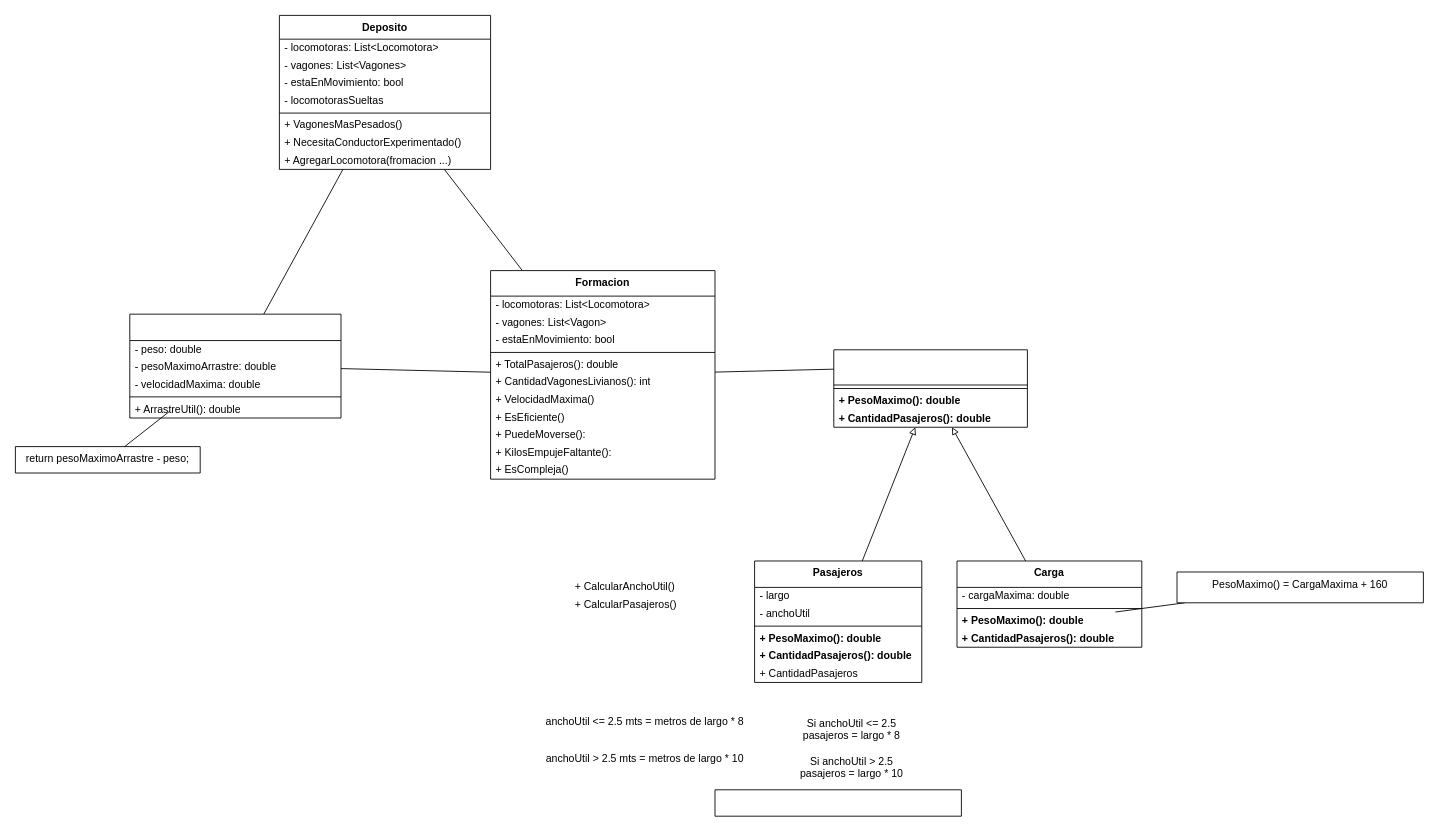
This 1439x832 diagram has some shape labels left out. The box of each missing label's shape, as (x1, y1, x2, y2) in pixels:
Locomotora: (129, 313, 341, 418)
PesoMaximo() = CantidadPasajeros() * 80: (714, 789, 961, 816)
Vagon {abstract}: (833, 349, 1027, 427)
